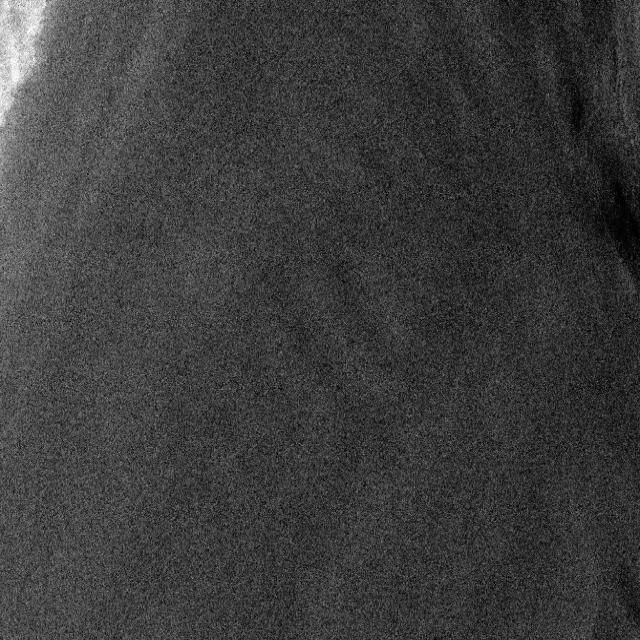look-alike: (562, 93, 638, 284)
